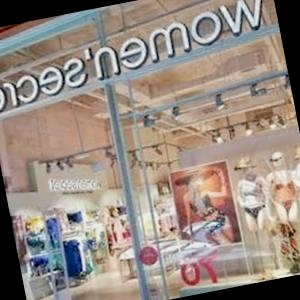women_secret: (37, 32, 300, 35)
